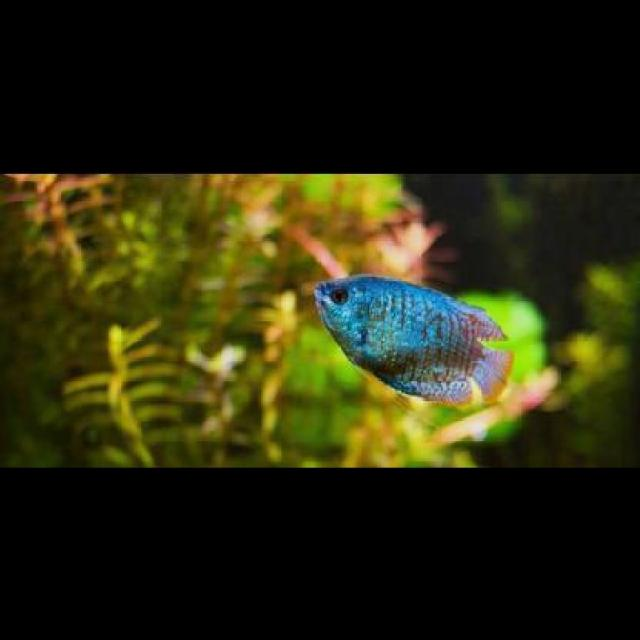Gourami: (316, 268, 515, 406)
